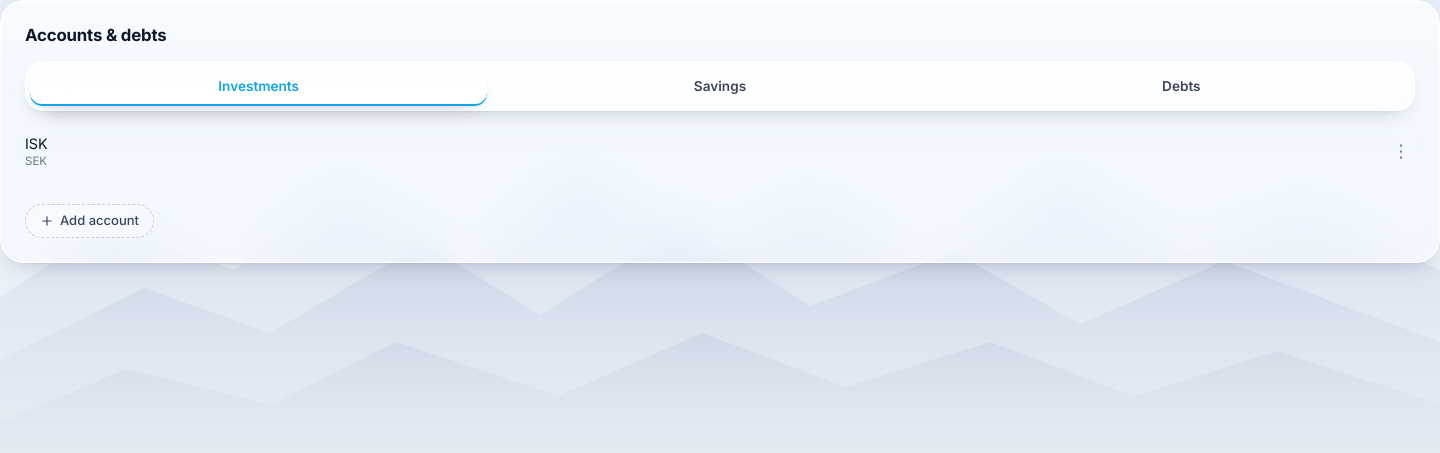
Test case: AccountsSettings — creating › opens the same fields as editing, without the framed legend
Click the tab "Debts": (1181, 86) x1=953 y1=66 x2=1410 y2=106
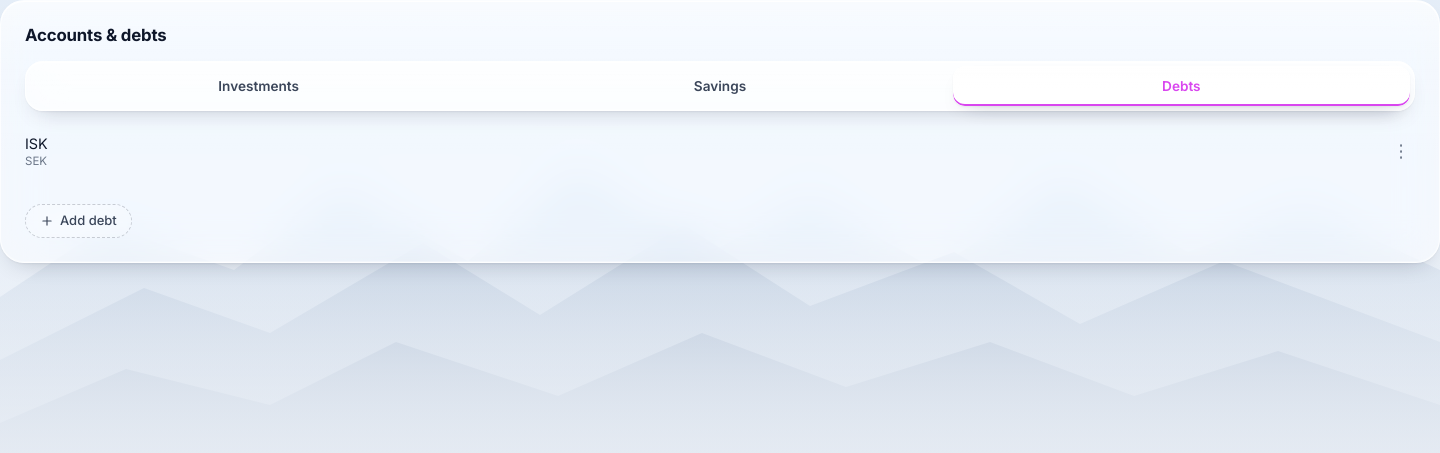
Click the button "Add debt": (78, 221) x1=25 y1=204 x2=132 y2=238
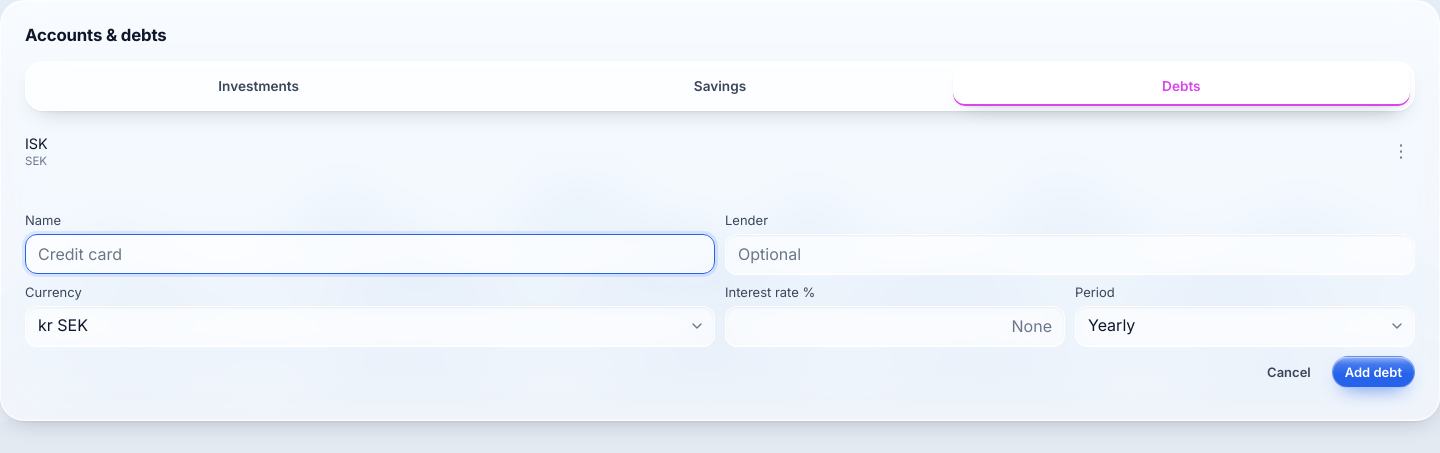
Now the element named "New debt" is shown, box x1=25 y1=204 x2=1415 y2=396
Now the field labelled "Name" is shown, box x1=25 y1=234 x2=715 y2=274
Now the field labelled "Lender" is shown, box x1=725 y1=234 x2=1415 y2=274
